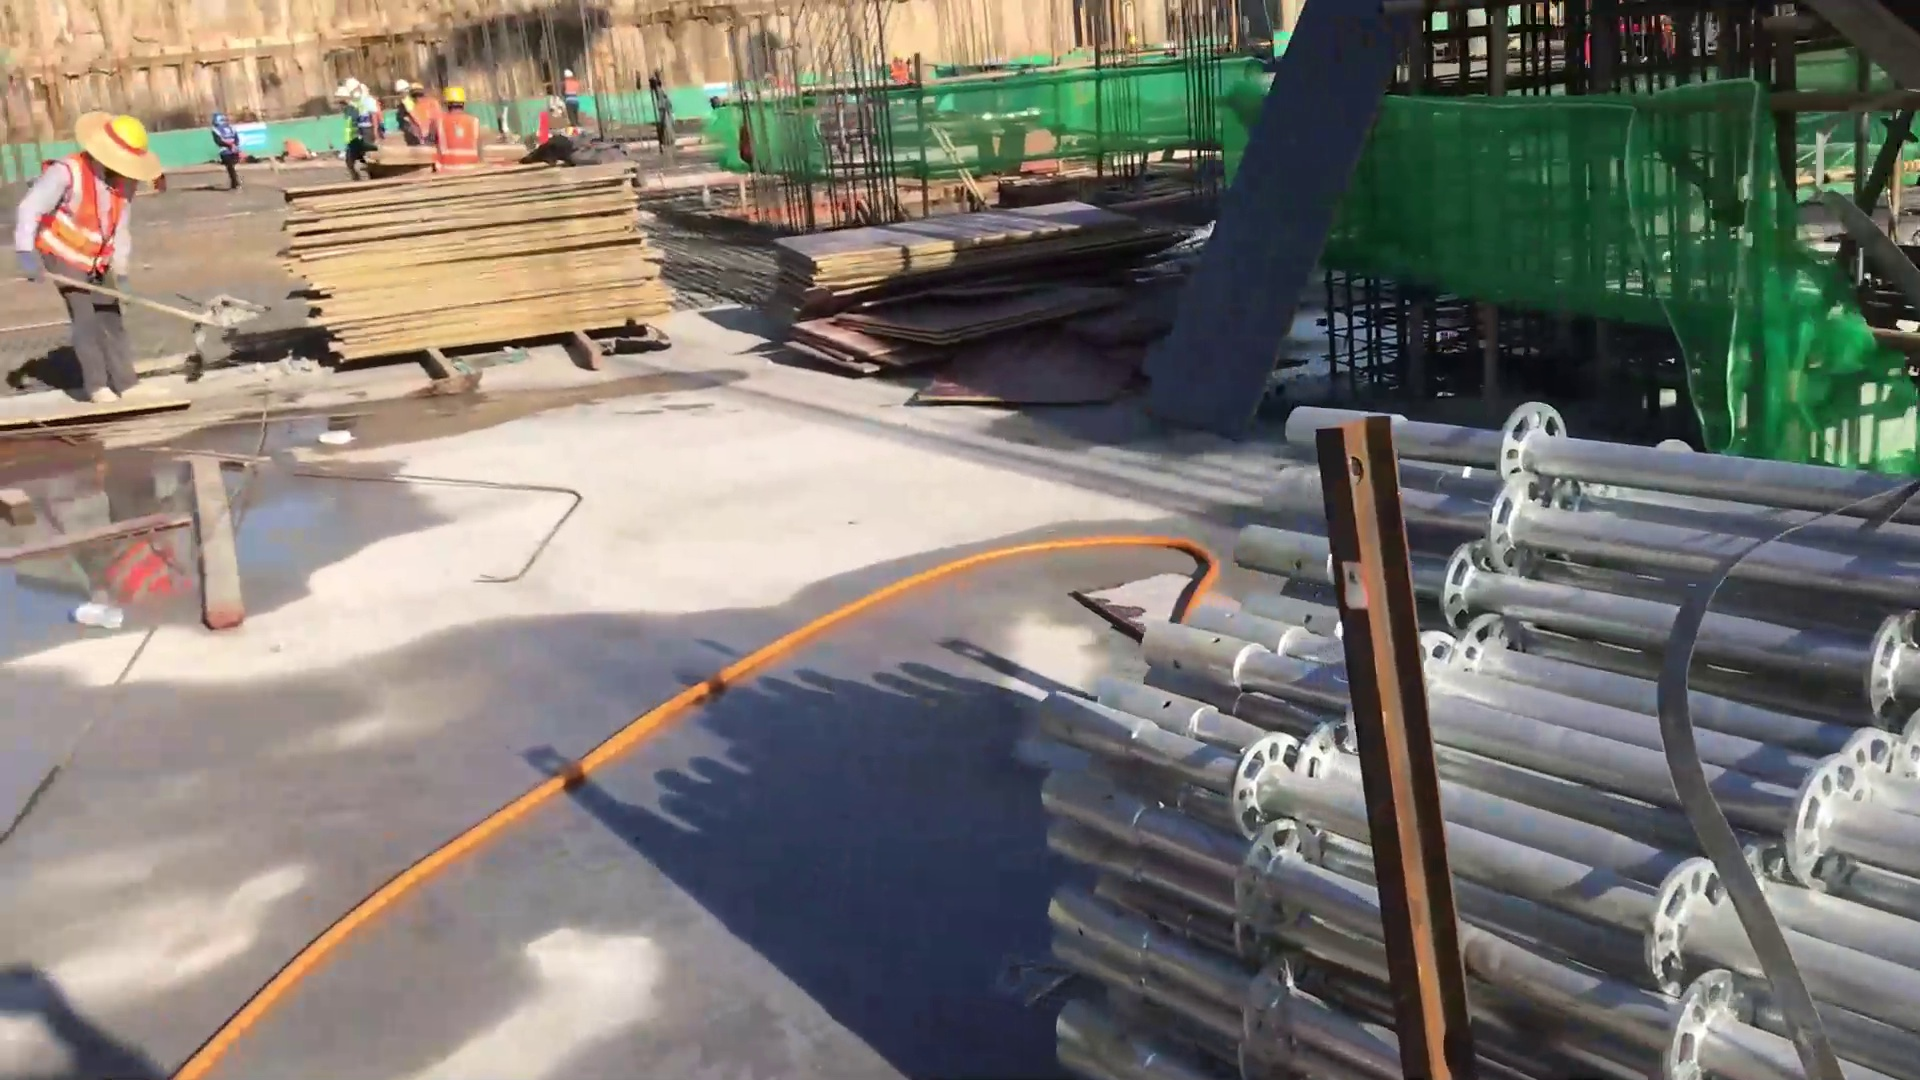board: (277, 156, 668, 351), (768, 148, 1145, 333)
helmet: (104, 112, 161, 164), (437, 79, 471, 113), (410, 80, 425, 99), (394, 79, 409, 94), (561, 69, 574, 79)
person: (11, 107, 173, 418), (435, 84, 491, 175), (410, 79, 439, 138), (559, 66, 583, 128), (392, 78, 411, 129)
scaffold: (980, 326, 1920, 1069)
vest: (35, 155, 137, 284), (435, 112, 487, 171)
